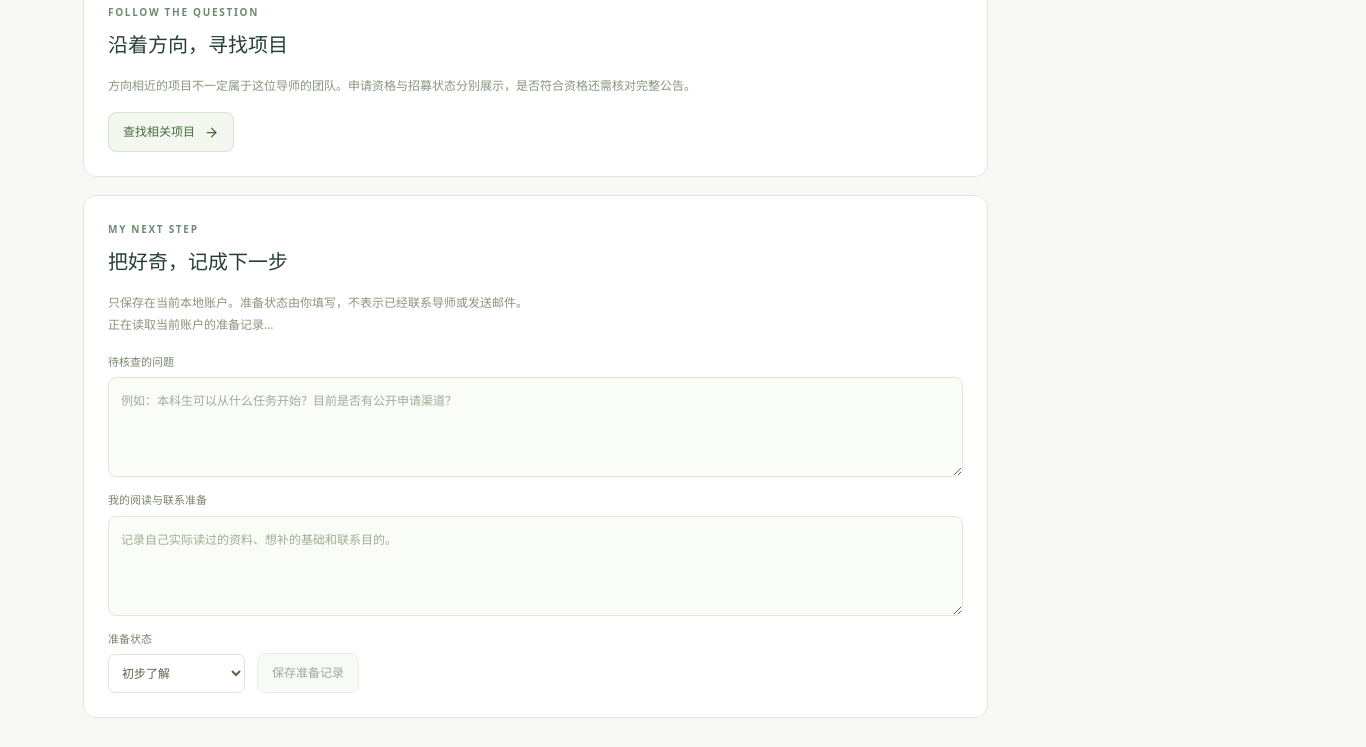
Test: faculty search and detail workflow › preserves edited notes on storage failure and allows retry
The width and height of the screenshot is (1366, 747).
(page scrolled)
Type "保存失败也不能丢失的问题" into the text box labelled "待核查的问题" at (536, 428), box [108, 378, 963, 478]
(page scrolled)
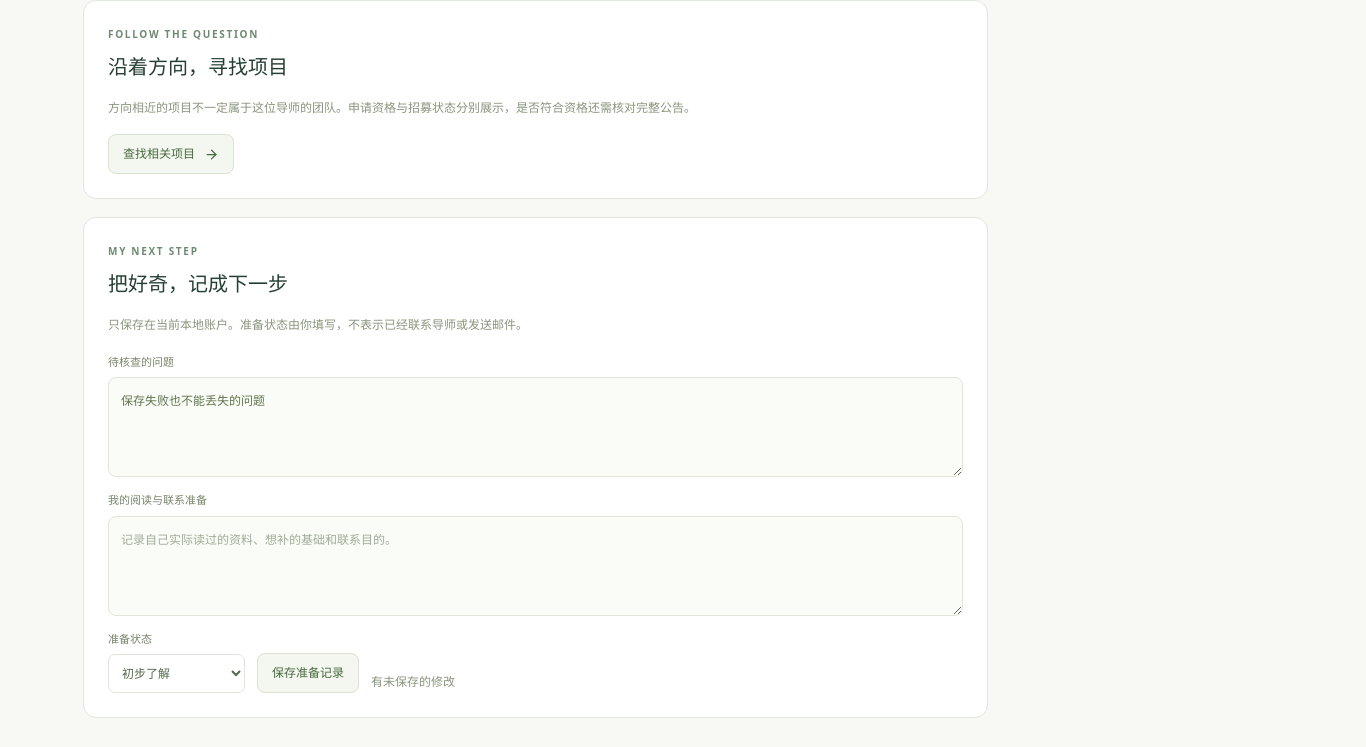
Click the button "保存准备记录" at (308, 673), box [257, 653, 359, 693]
(page scrolled)
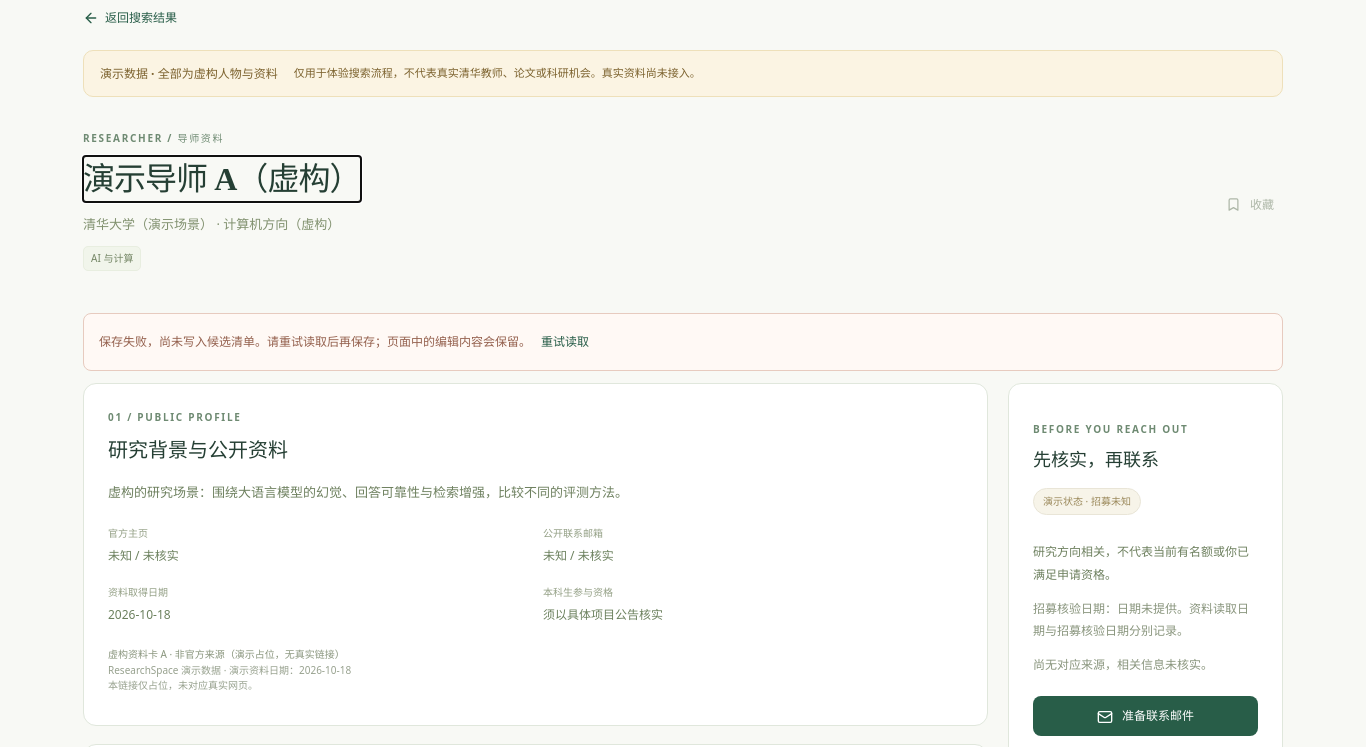
Check: the message "保存失败，尚未写入候选清单。请重试读取后再保存；页面中的编辑内容会保留。 重试读取" is shown, box [83, 313, 1283, 371]
Click the button "重试读取" at (565, 342), box [541, 326, 589, 358]
(page scrolled)
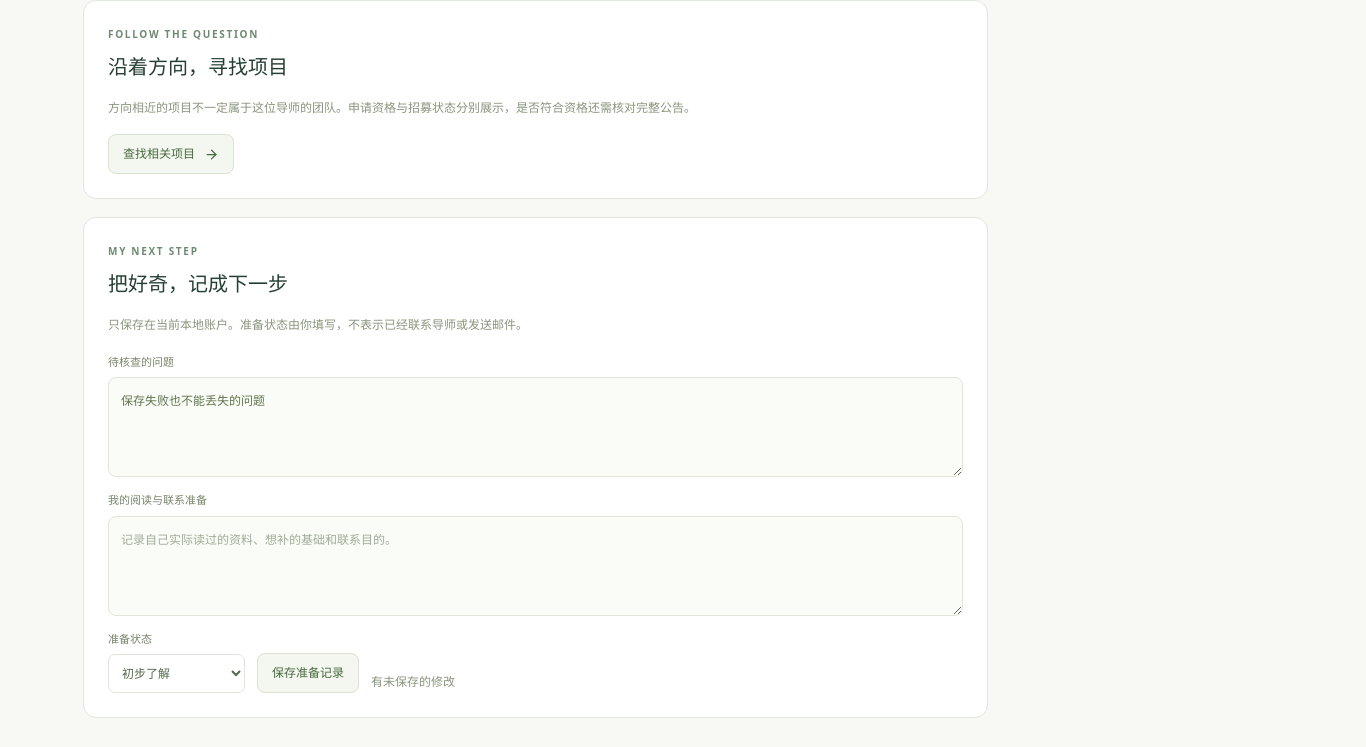
Check: the button "保存准备记录" is enabled
Click the button "保存准备记录" at (308, 673), box [257, 653, 359, 693]
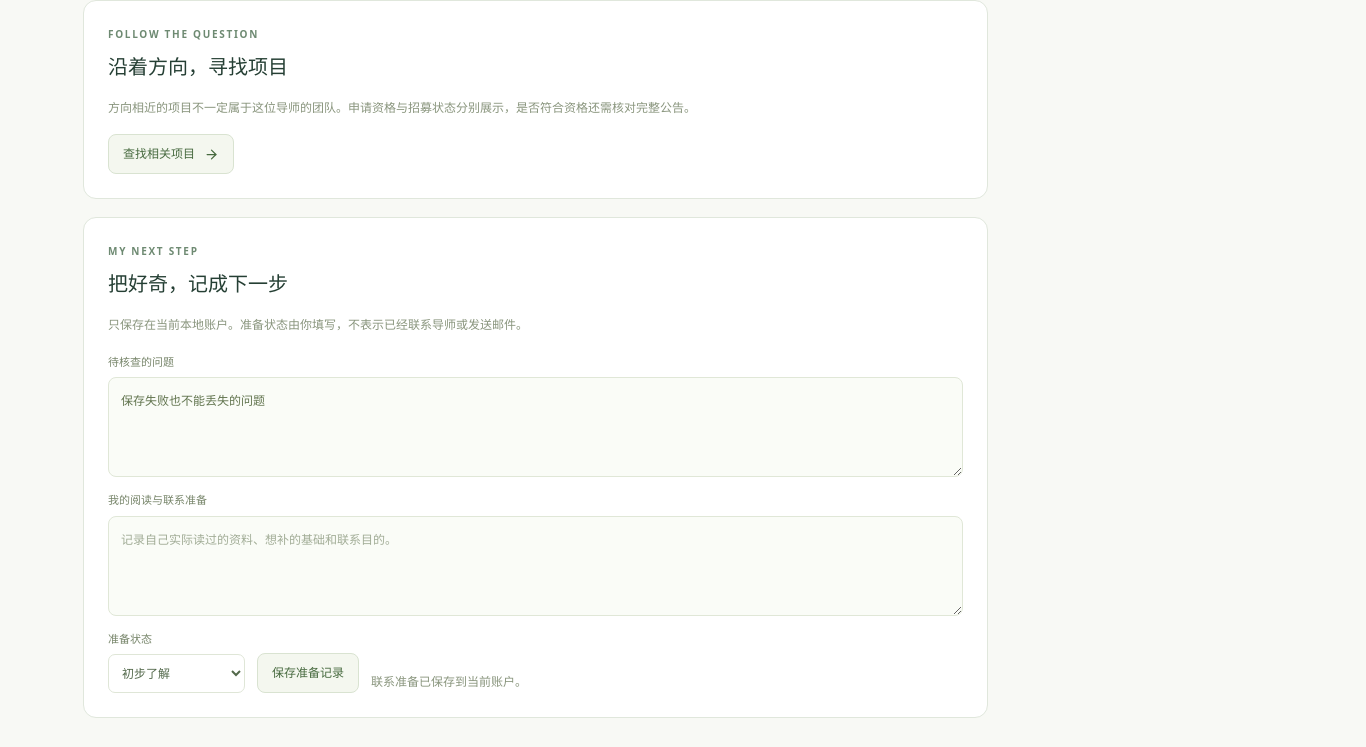
Check: the text "联系准备已保存到当前账户。" is shown, box [371, 671, 527, 693]
